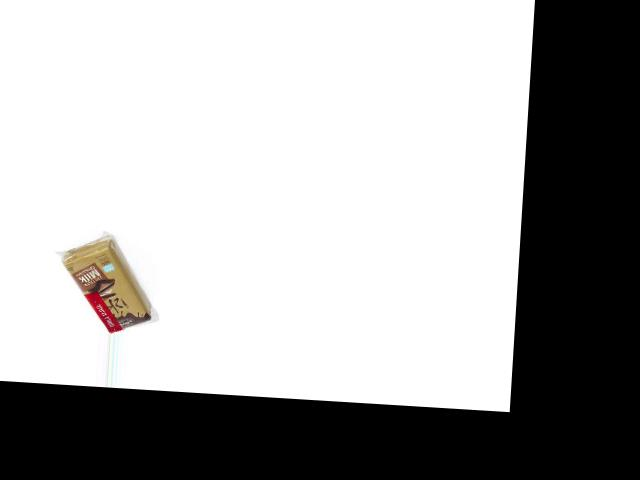chocolate: (46, 232, 157, 333)
